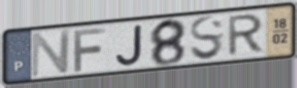8: (148, 16, 189, 68)
F: (72, 26, 108, 73)
J: (114, 23, 145, 68)
N: (29, 28, 73, 79)
R: (225, 12, 266, 58)
S: (188, 14, 225, 62)
